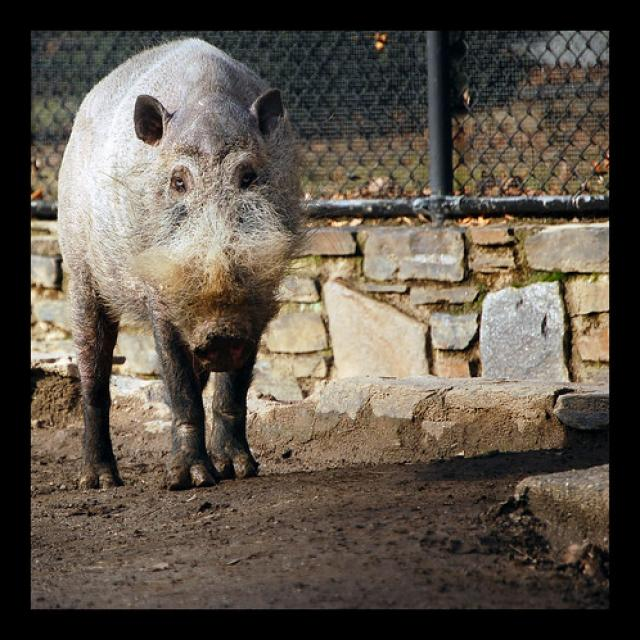boar: (42, 35, 313, 490)
